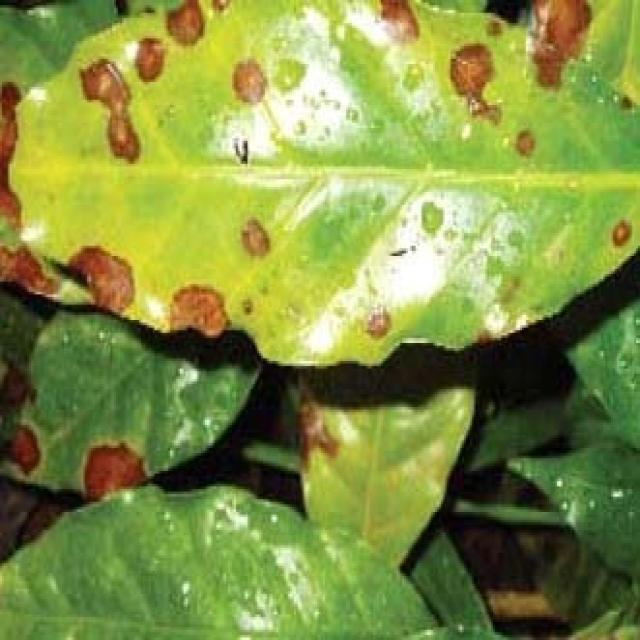Enfermedad-Mancha-de-hierro: (8, 0, 640, 366)
